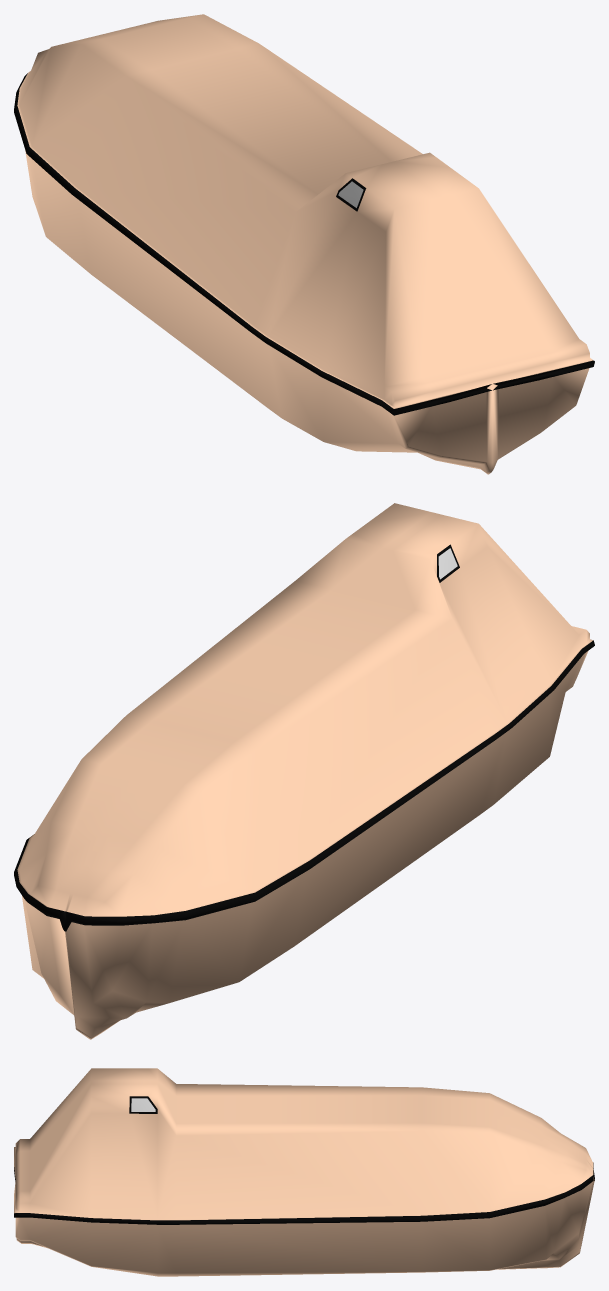
Rendered from DropBoat.dae.
3 renders of one model, top to bottom at view 1: azimuth 30°, elevation 25°; view 2: azimuth 150°, elevation 25°; view 3: azimuth 270°, elevation 25°, orthographic. The views are drawn at different scales.
Visible parts, largest first — view 1: Boat; view 2: Boat; view 3: Boat.
Part boxes in pixels (<box>): Boat: <box>14,14,594,474</box>; Boat: <box>14,503,594,1039</box>; Boat: <box>14,1068,594,1276</box>.
Bounding box in the file's own units: 1.66 × 4.95 × 1.76.
